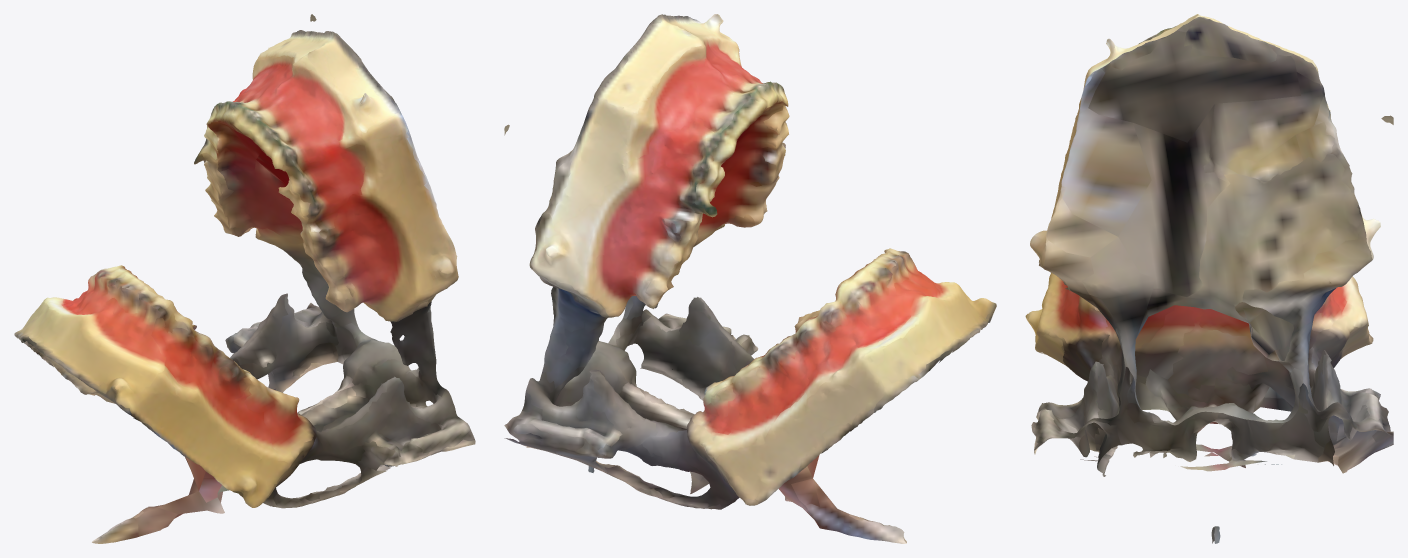
The model's file is brackets.glb.
3 views of the same model, side by side, from view 1: azimuth 30°, elevation 25°; view 2: azimuth 150°, elevation 25°; view 3: azimuth 270°, elevation 25° (orthographic). The views are drawn at different scales.
Parts seen in each view (by area): view 1: Object_2; view 2: Object_2; view 3: Object_2.
Boxes of the visible parts, <box> form: Object_2: <box>14,14,475,543</box>; Object_2: <box>504,14,996,543</box>; Object_2: <box>1025,14,1393,543</box>.
Size of the model in its own units: 0.0913 by 0.1103 by 0.0746.
1 material, 1 textured.
